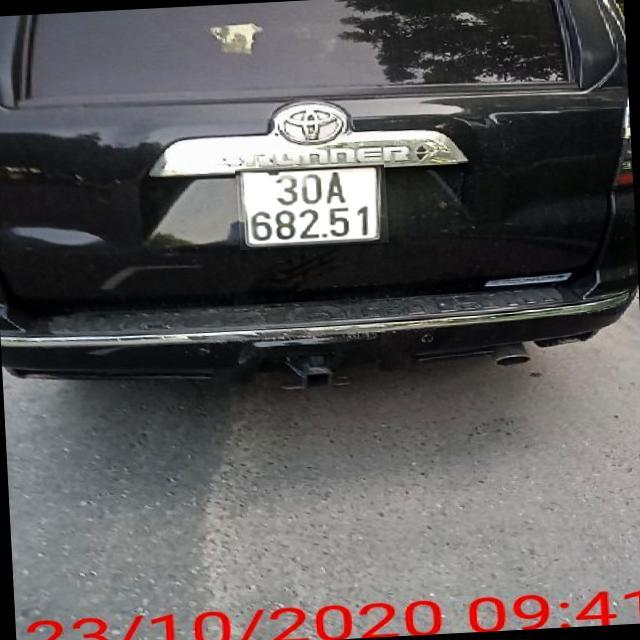car: (0, 0, 640, 402)
plate: (234, 160, 386, 252)
